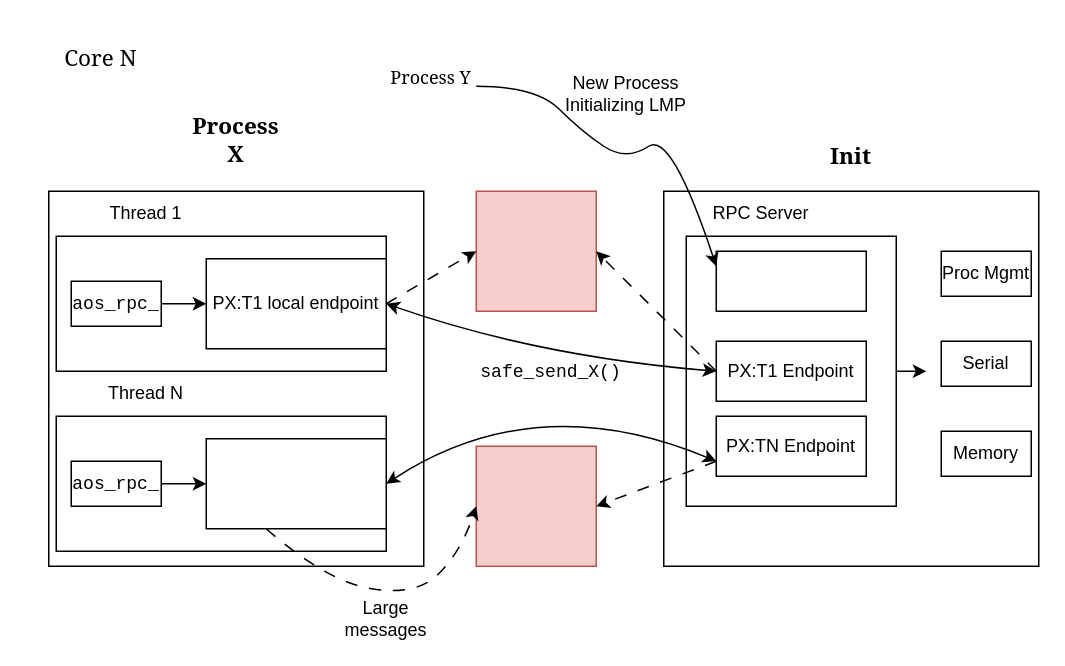
Some shapes in this 1065 by 666 pixel diagram are drawn without their labels. Here are the shapes that lost their labels. From the top down, the centre of each, then its label:
At pixel 535 250: "Shared Memory Frame 1".
At pixel 790 280: "Global Endpoint".
At pixel 295 483: "PX:TN local endpoint".
At pixel 535 505: "Shared Memory Frame N".
